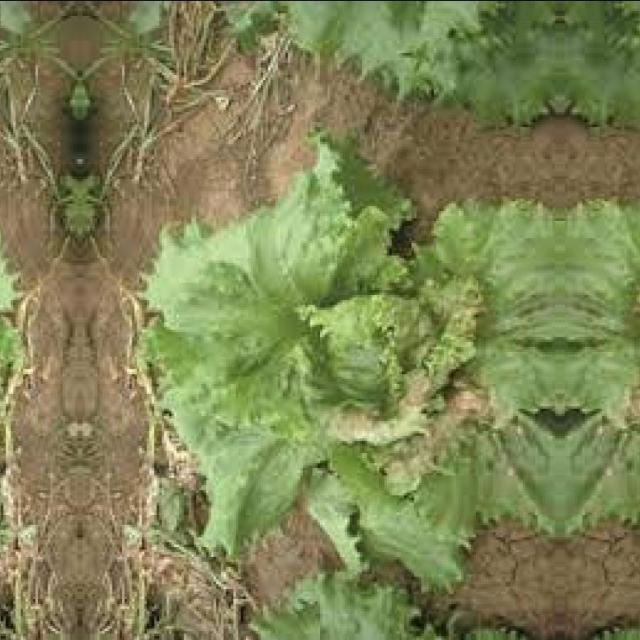healthy: (146, 127, 560, 595), (560, 127, 640, 595), (0, 127, 14, 595)
